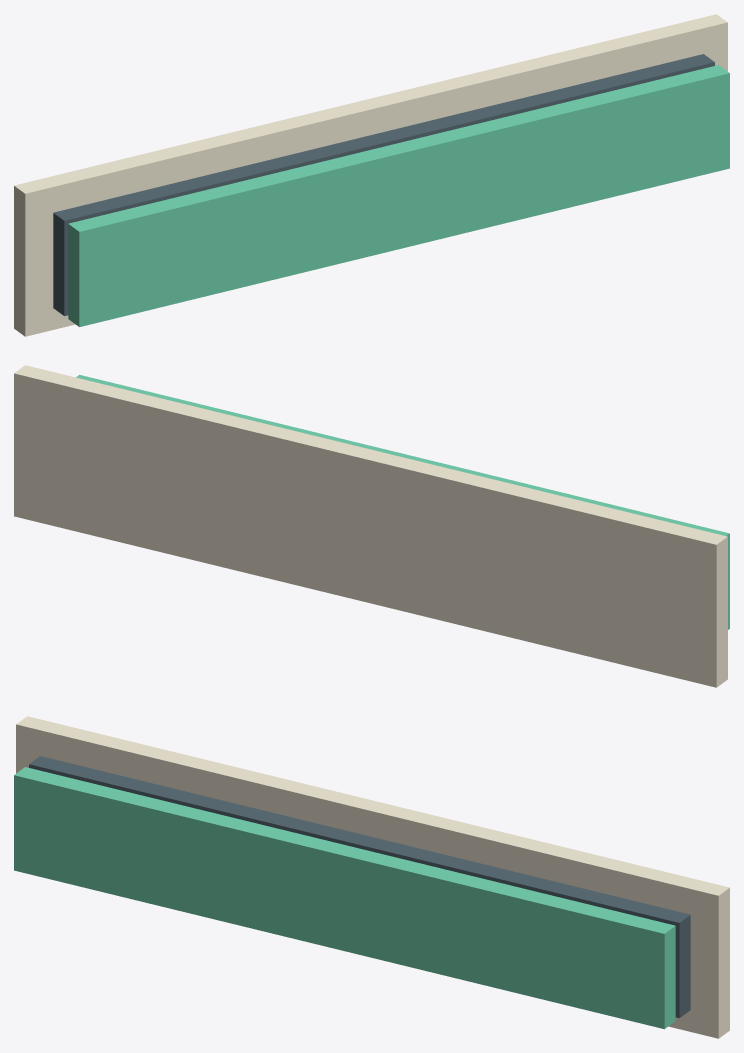
3 views of the same model, one above another, from view 1: azimuth 30°, elevation 25°; view 2: azimuth 150°, elevation 25°; view 3: azimuth 330°, elevation 25° (orthographic).
Visible parts, largest first — view 1: fill, border, background; view 2: border, fill; view 3: fill, border, background.
Part boxes in pixels (box(x1,y1,x2,y2)): fill: box(68, 65, 729, 327); border: box(14, 14, 727, 336); background: box(53, 54, 714, 316); border: box(14, 365, 727, 687); fill: box(76, 374, 729, 629); fill: box(14, 767, 675, 1029); border: box(16, 716, 729, 1038); background: box(29, 756, 690, 1018).
Size of the model in its own units: 1.08 by 0.21 by 0.105.
